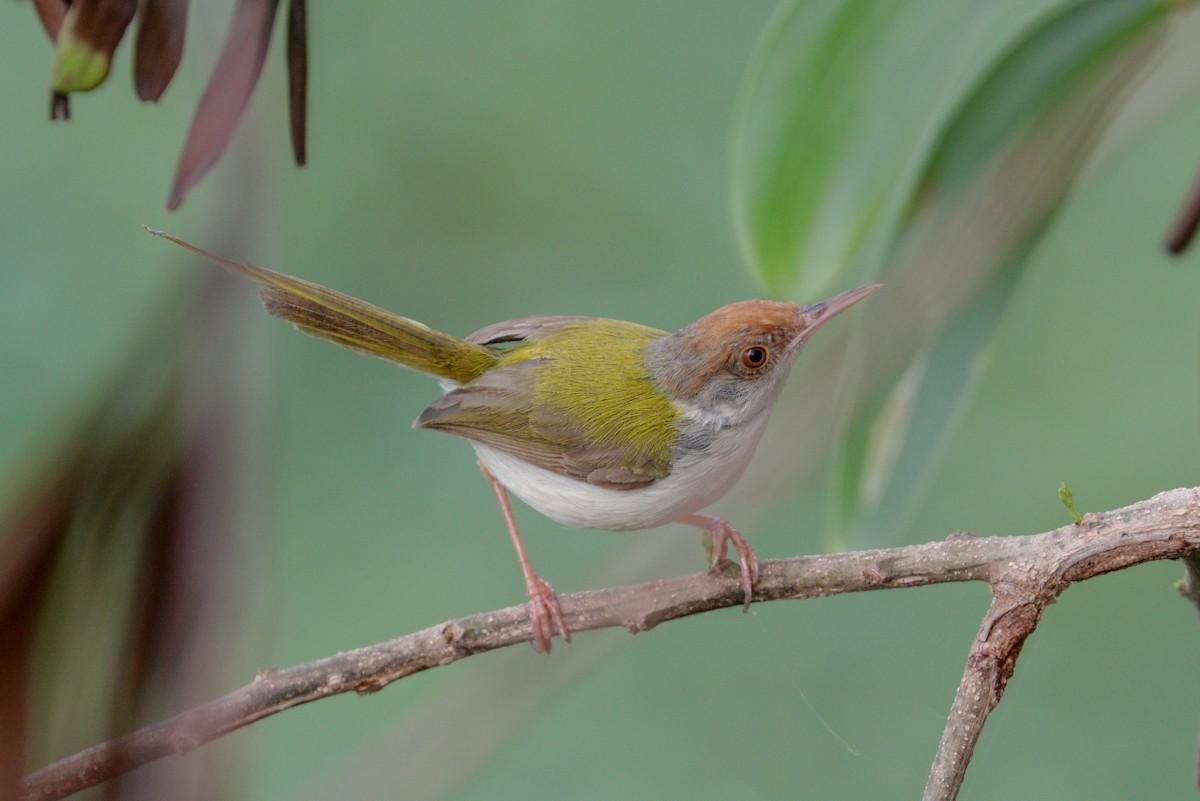tailorbird: (203, 171, 896, 705)
